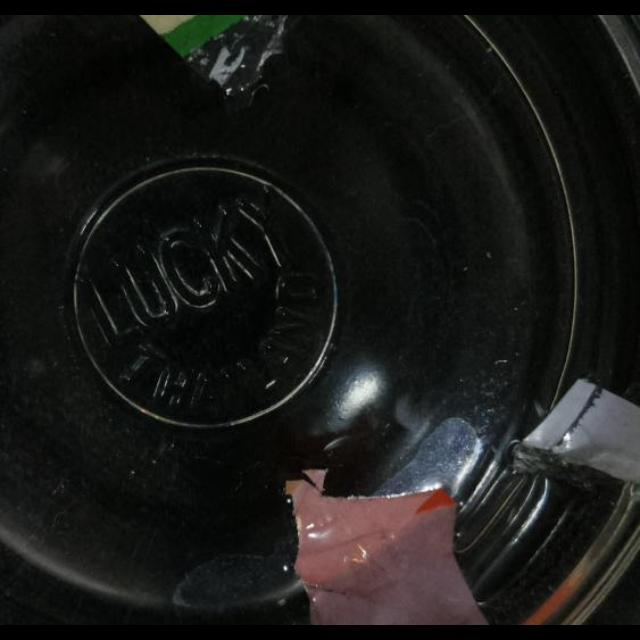Fragment: (280, 468, 484, 626), (508, 373, 640, 512), (143, 15, 299, 110)
